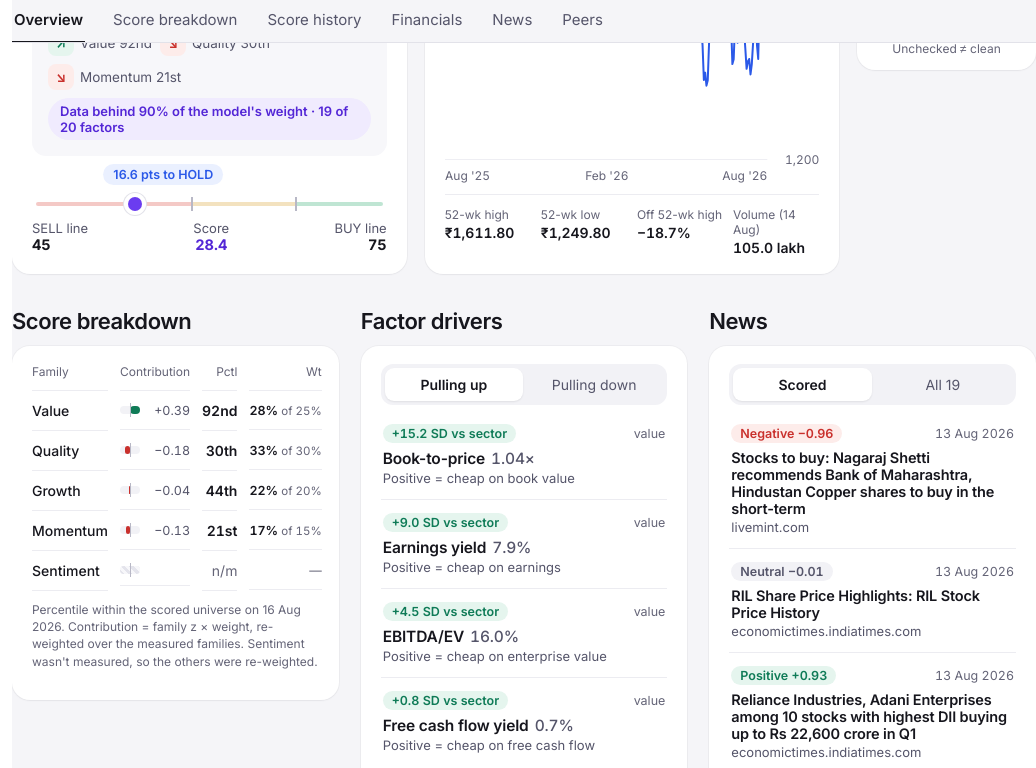
RELIANCE lower sections › drivers: z-score, raw value and what positive means, both ways
(page scrolled)
Expected: the text "+15.2 SD vs sector" is shown, 383,424 -> 516,442
Expected: the text "1.04×" is shown, 491,448 -> 535,468
What coordinates should you click on to do the following:
click the button "Pulling down"
I would click on:
 (594, 384)
Its box is 525,368 -> 663,400.
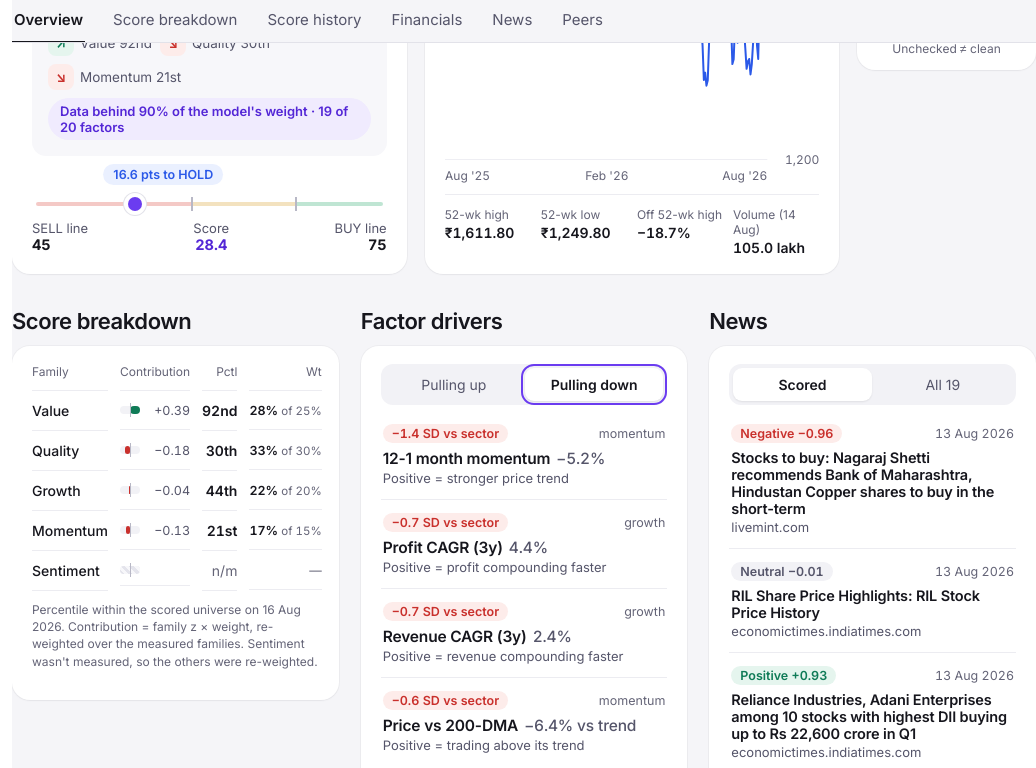
Expected: the text "−1.4 SD vs sector" is shown, 383,424 -> 508,442
Expected: the text "Positive = stronger price trend" is shown, 383,470 -> 569,486
